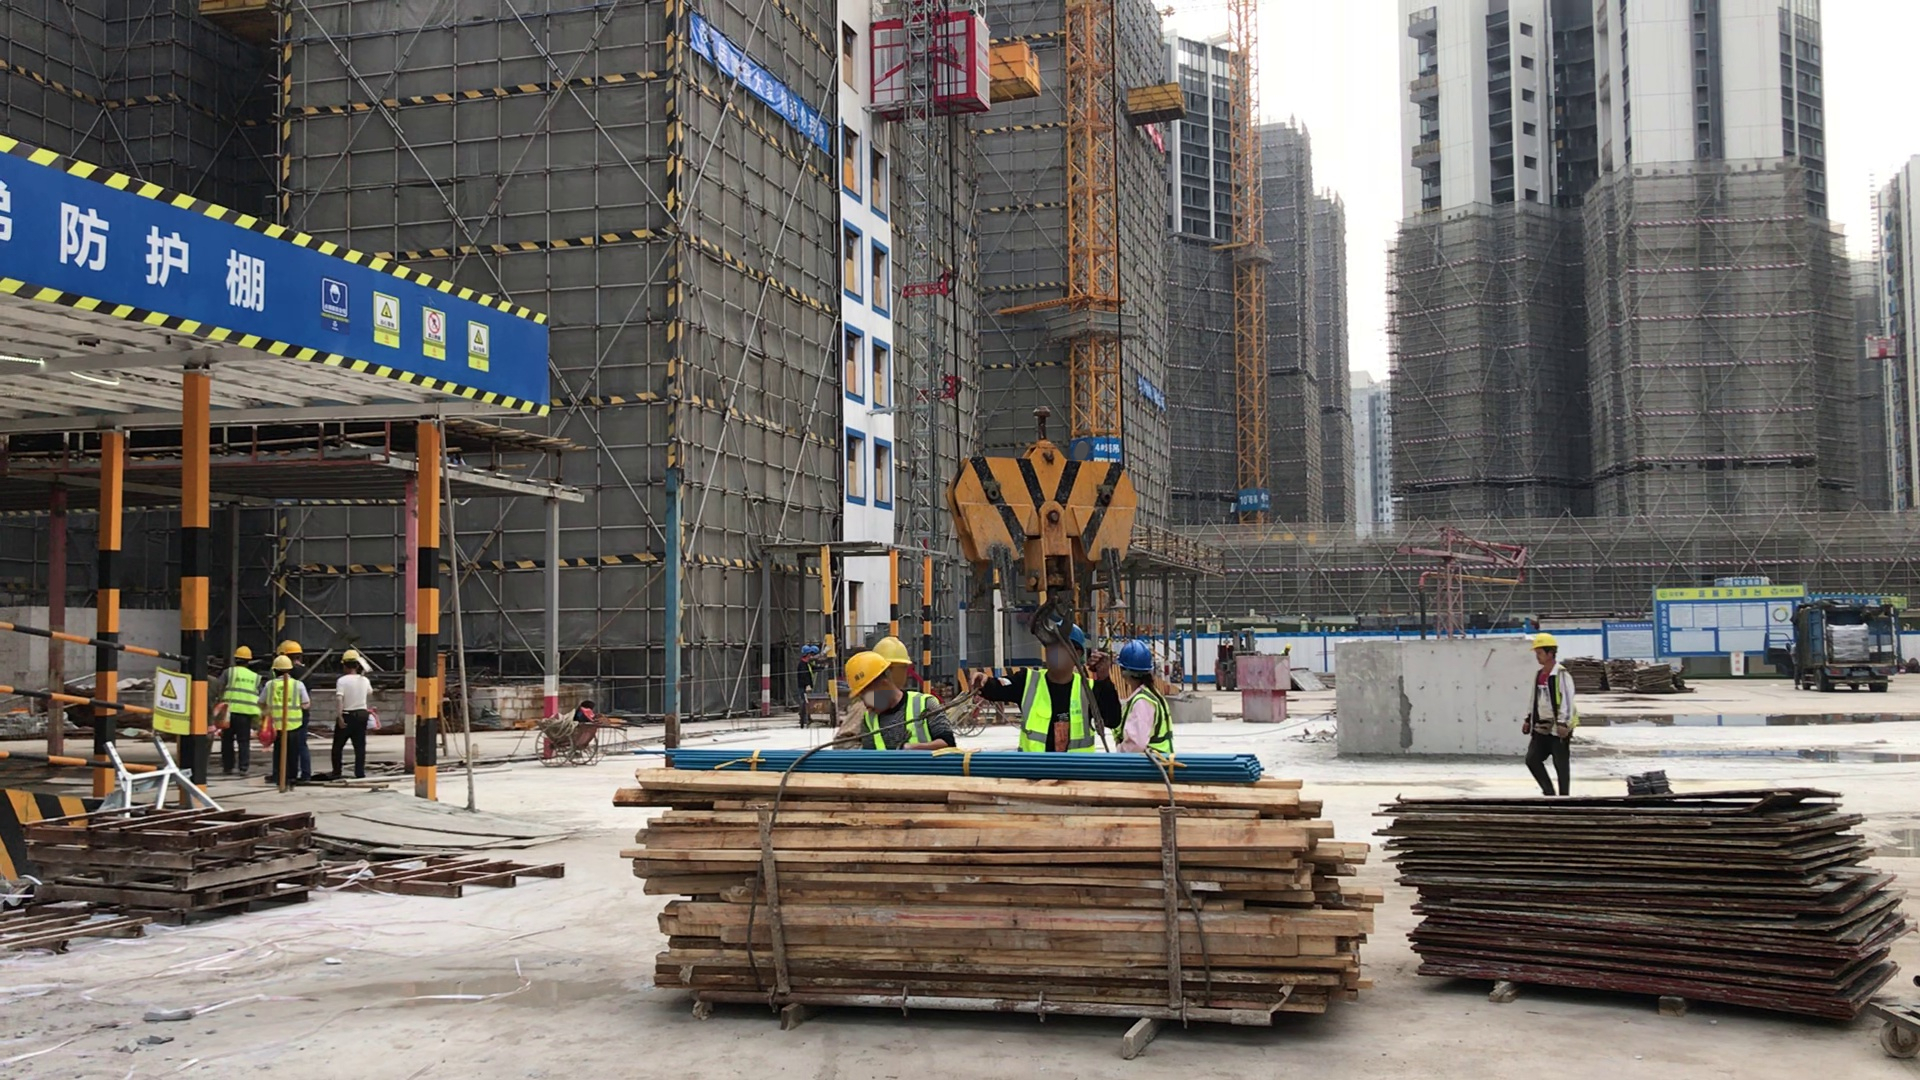board: (1383, 795, 1904, 1025)
handcart: (527, 700, 626, 778), (791, 684, 839, 731)
helmet: (843, 638, 915, 702), (1120, 641, 1162, 673), (1530, 632, 1559, 654), (231, 644, 255, 665), (270, 653, 294, 673), (342, 647, 360, 669), (276, 640, 302, 651)
hook: (953, 411, 1142, 636)
slogan: (310, 272, 498, 376), (694, 16, 831, 146), (993, 624, 1108, 752), (1518, 626, 1582, 798), (841, 647, 949, 749), (1116, 636, 1175, 761), (266, 638, 309, 793), (218, 640, 258, 773), (332, 647, 371, 785), (146, 665, 193, 737), (1135, 377, 1175, 407), (1242, 485, 1271, 513)
vest: (1021, 669, 1095, 748), (1120, 687, 1174, 761), (862, 702, 932, 745), (269, 678, 306, 735), (225, 669, 261, 717)
wood: (625, 765, 1362, 1025)
